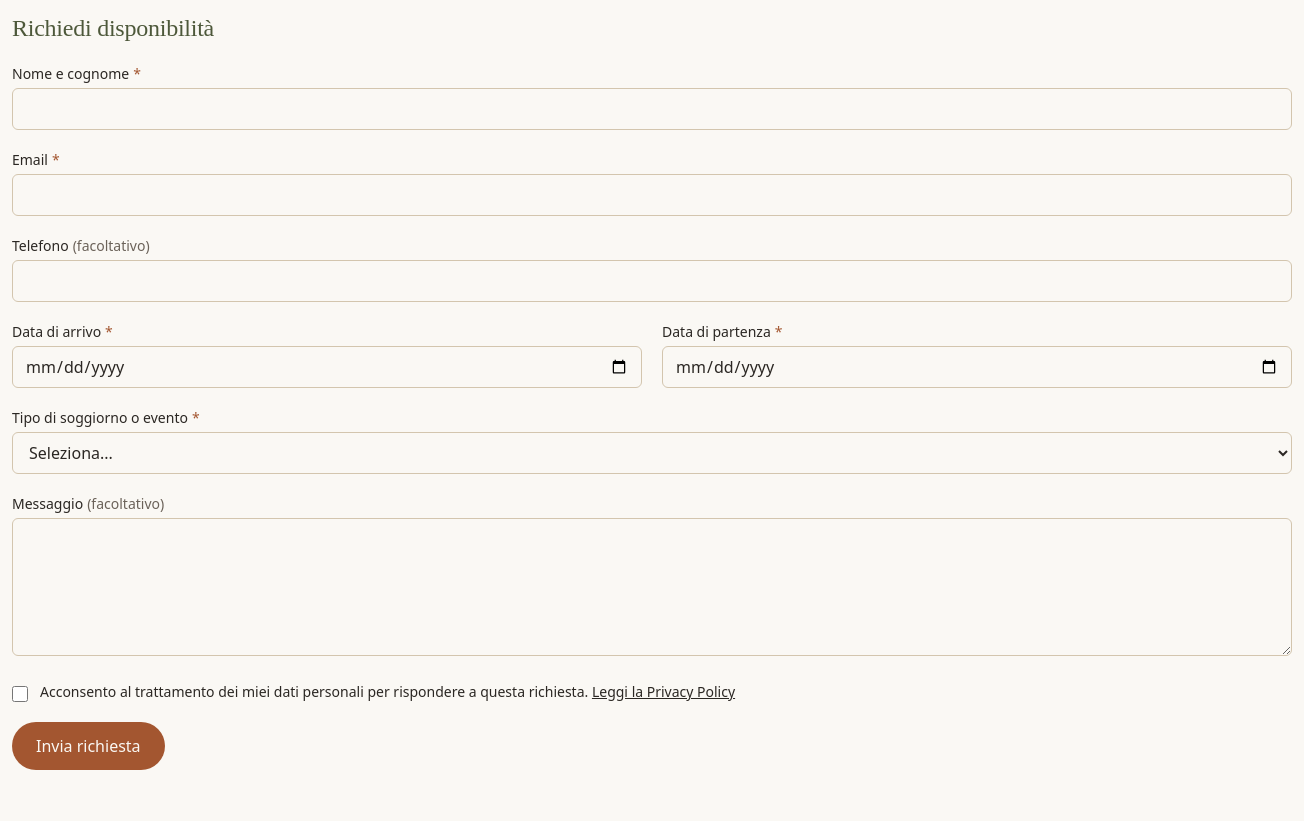
Test: InquiryForm validation › does not submit an empty form and lists the problems
Step 1. Click the button "Invia richiesta" → (88, 746), box [12, 722, 165, 770]
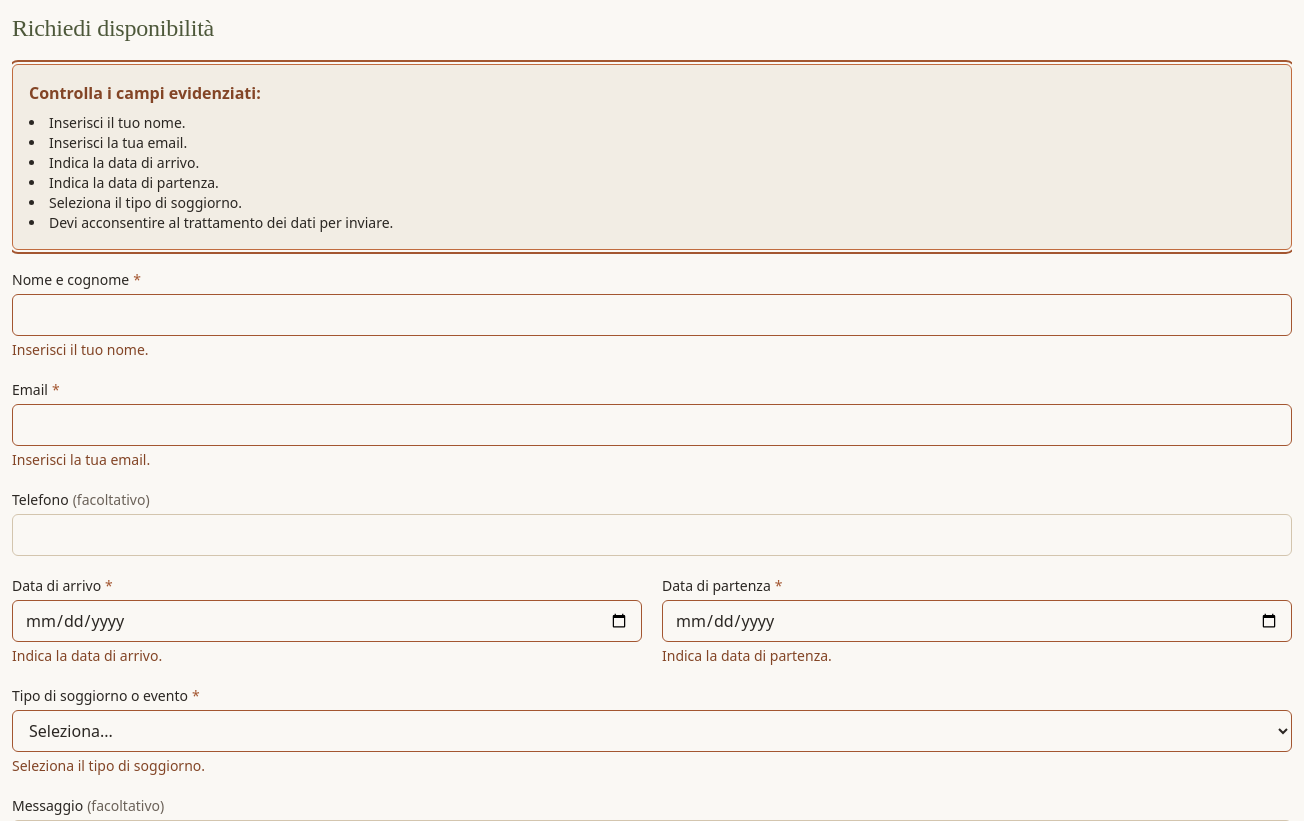
Expected: the message shows "Controlla i campi evidenziati:", [29, 82, 261, 104]
Expected: the message shows "Inserisci il tuo nome.", [49, 113, 186, 132]
Expected: the message shows "Devi acconsentire al trattamento dei dati per inviare.", [49, 213, 393, 232]
